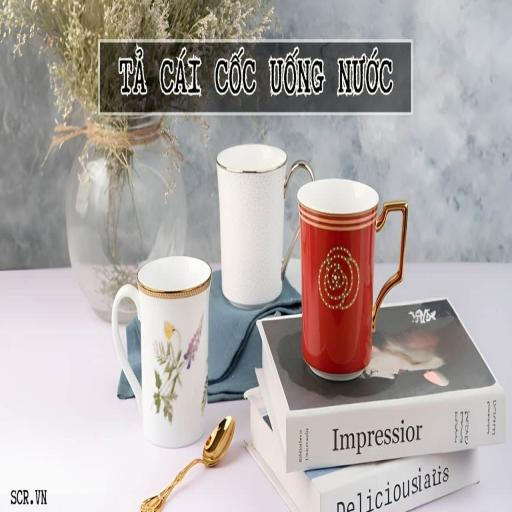cup: (297, 179, 408, 380), (112, 257, 212, 447), (217, 144, 298, 308)
